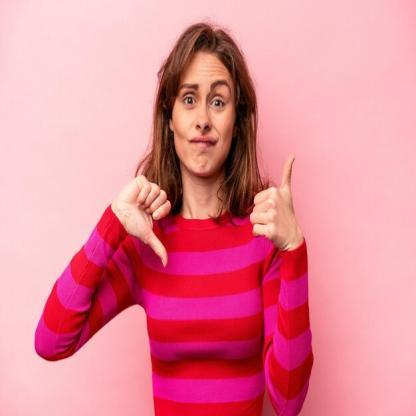thumb_down: (114, 170, 172, 270)
thumb_up: (247, 152, 302, 242)
